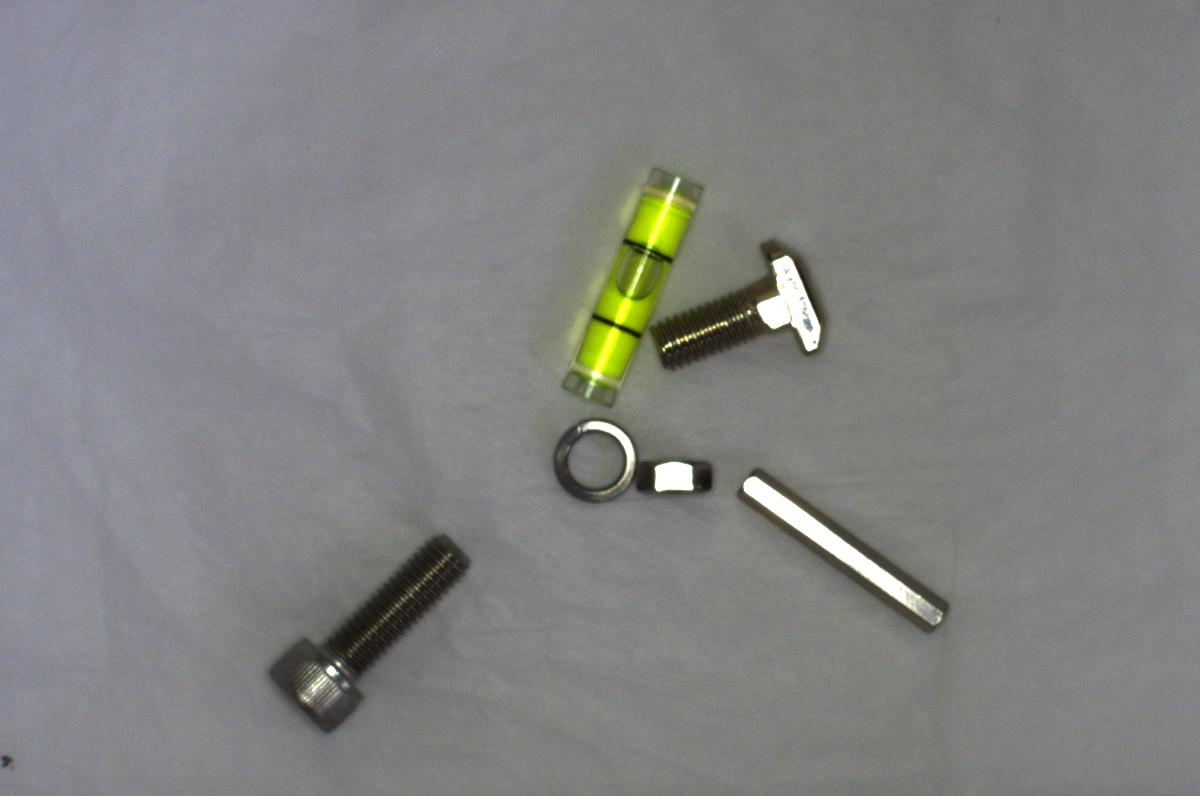Double hexagonal column: (740, 461, 959, 635)
Hexagon nut: (621, 443, 718, 502)
Hexagon screw: (272, 534, 471, 727)
Horizontal bubble: (570, 165, 700, 405)
Spring washer: (546, 410, 634, 501)
T-shaped screw: (645, 230, 827, 375)
